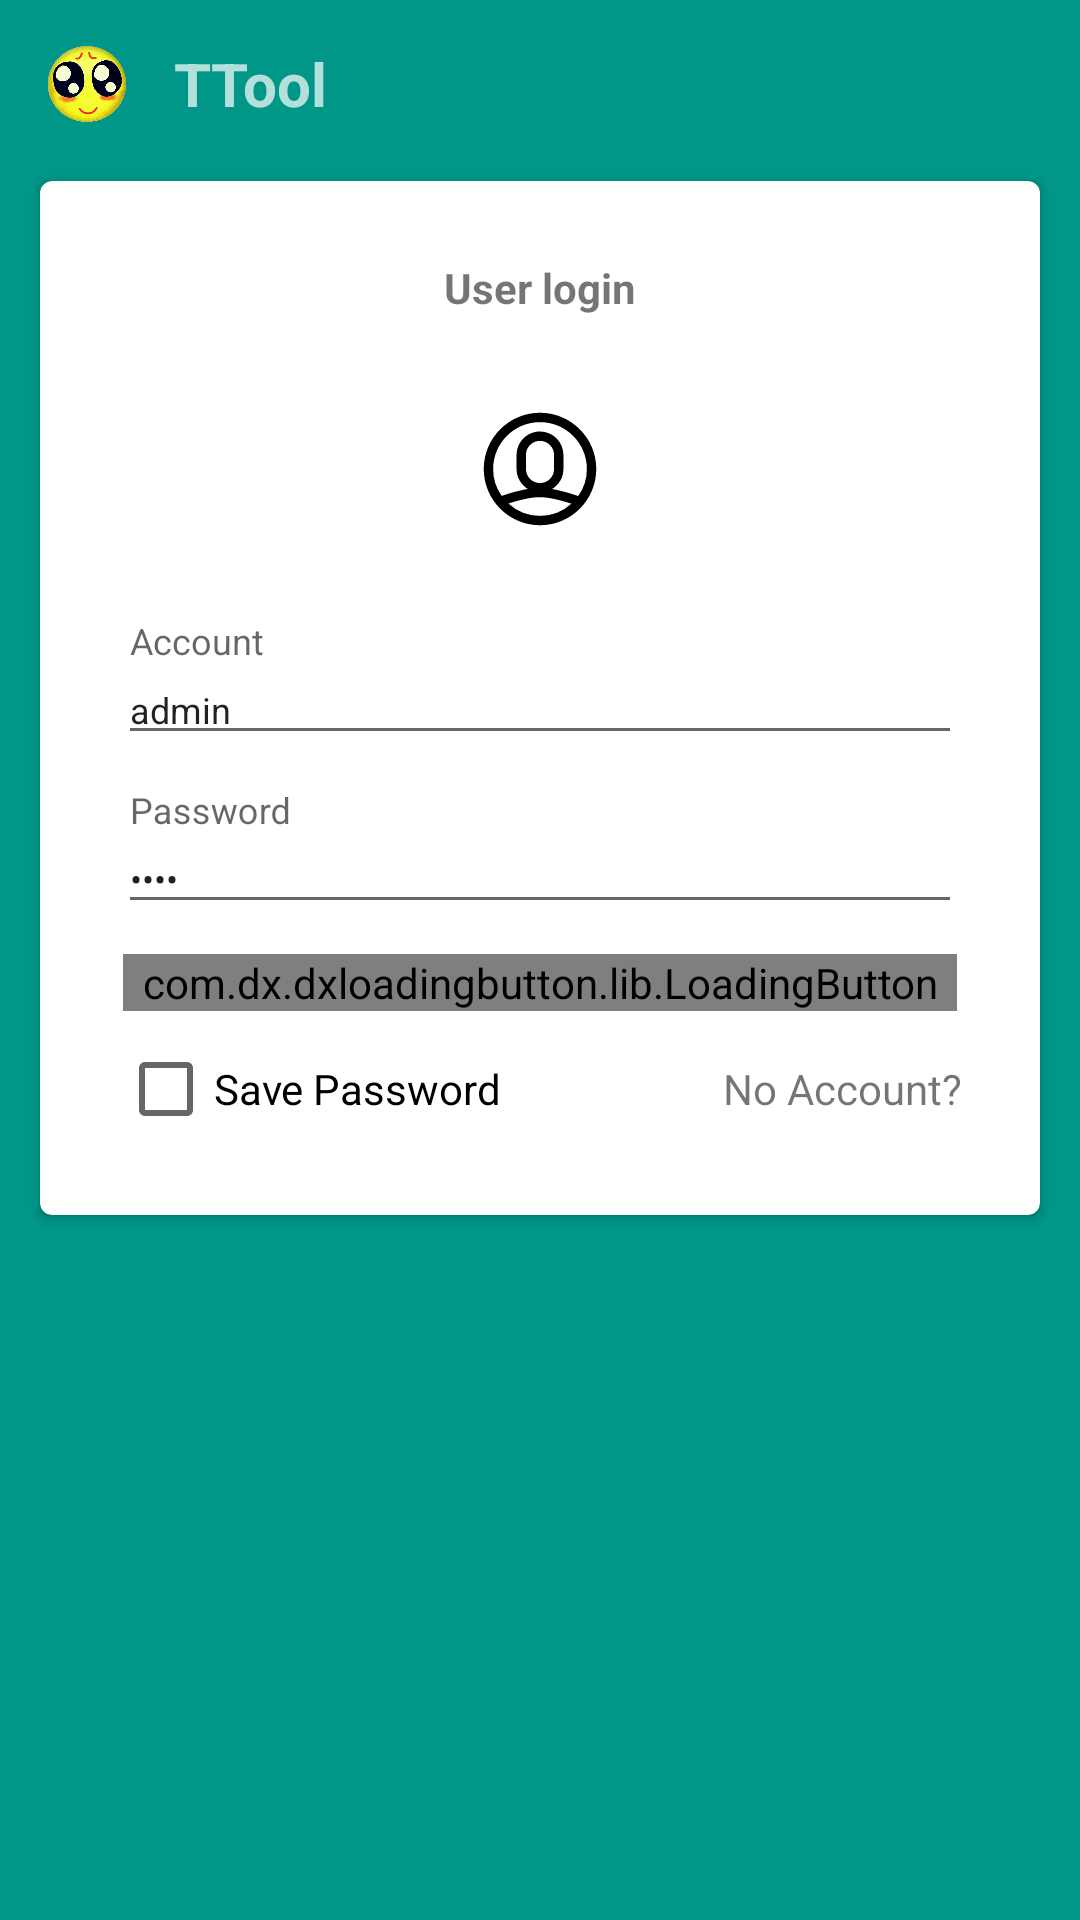

Named icons in this screenshot (1080px×1920px) and their bounding boxes, [x1, y1, x2, y2]:
favicon: [48, 46, 126, 122]
mine: [483, 412, 597, 526]
